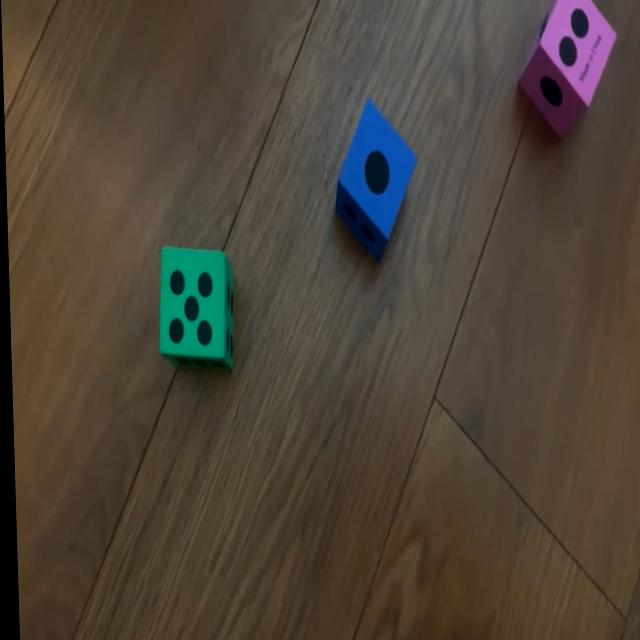cube: (333, 95, 420, 259), (155, 246, 234, 372)
